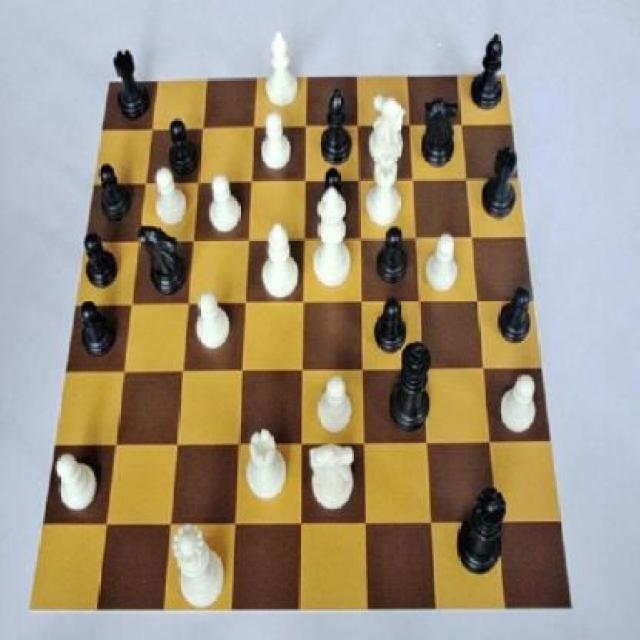bishop: (466, 28, 512, 120), (317, 85, 357, 177)
black-bishop: (386, 331, 438, 442)
black-king: (138, 224, 190, 308), (418, 89, 464, 173)
black-knight: (492, 282, 540, 358), (78, 228, 127, 296), (371, 288, 413, 363), (160, 114, 201, 188), (97, 158, 138, 231), (77, 291, 118, 361), (371, 226, 412, 294), (317, 167, 355, 236)
black-pawn: (456, 482, 510, 579)
black-queen: (477, 135, 526, 230), (110, 43, 154, 128)
black-rook: (264, 20, 304, 112), (260, 223, 303, 307)
white-bishop: (309, 182, 354, 298)
white-king: (366, 95, 411, 180), (307, 443, 358, 514)
white-knight: (418, 224, 468, 306), (50, 443, 101, 522), (492, 366, 543, 444), (255, 111, 300, 186), (314, 371, 357, 446), (150, 155, 188, 234), (194, 288, 234, 363), (202, 168, 244, 239)
white-pawn: (171, 519, 229, 616)
white-queen: (362, 152, 408, 233), (244, 428, 290, 504)
